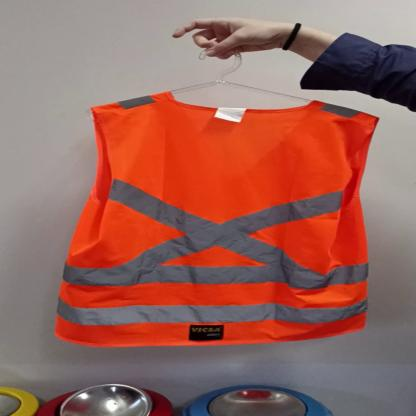colete: (55, 93, 376, 348)
